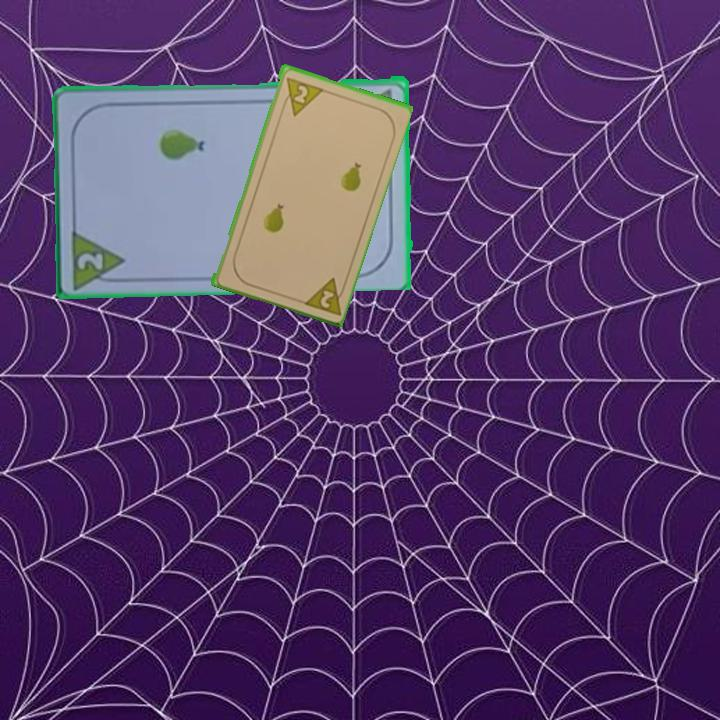2p: (69, 224, 130, 289), (298, 273, 349, 318), (279, 73, 324, 118)
